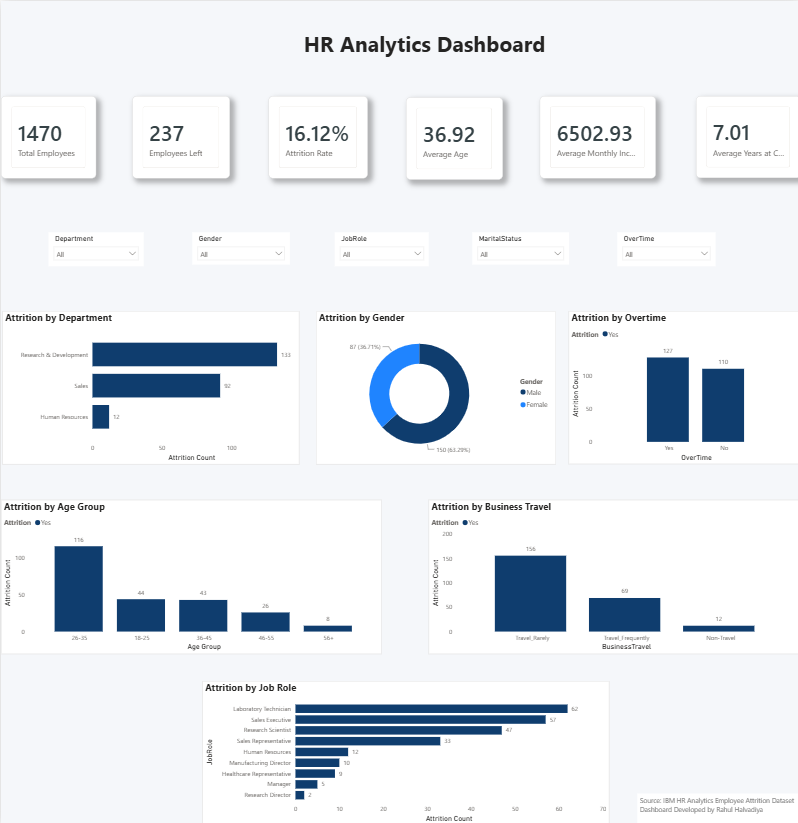

Layout of this report page (visuals, bound fields, positions):
{"tool":"powerbi","page":{"name":"HR Analytics Dashboard","canvas":[1600,1600],"ordinal":0},"visuals":[{"type":"cardVisual","fields":{"Data":["Employee Attrition.Total Employees"]},"box":[0,140,190,165],"z":0},{"type":"cardVisual","fields":{"Data":["Employee Attrition.Average Monthly Income"]},"box":[1078.3,140,231.7,165],"z":1000},{"type":"cardVisual","fields":{"Data":["Employee Attrition.Average Age"]},"box":[810,141.7,193.3,165],"z":2000},{"type":"cardVisual","fields":{"Data":["Employee Attrition.Average Years at Company"]},"box":[1389.9,140.8,209.4,164.3],"z":3000},{"type":"cardVisual","fields":{"Data":["Employee Attrition.Employees Left"]},"box":[261.7,140,195,165],"z":4000},{"type":"cardVisual","fields":{"Data":["Employee Attrition.Attrition Rate"]},"box":[535,140,198.3,165],"z":5000},{"type":"textbox","title":"HR Analytics Dashboard","box":[585.7,0,524.3,77.1],"z":6000},{"type":"clusteredBarChart","title":"Attrition by Department","fields":{"Y":["Employee Attrition.Attrition Count"],"Category":["Employee Attrition.Department"]},"box":[2,570,594,307],"z":7000},{"type":"donutChart","title":"Attrition by Gender","fields":{"Category":["Employee Attrition.Gender"],"Y":["Employee Attrition.Attrition Count"]},"box":[630,570,480,307],"z":8000},{"type":"clusteredColumnChart","title":"Attrition by Overtime","fields":{"Category":["Employee Attrition.OverTime"],"Y":["Employee Attrition.Attrition Count"],"Series":["Employee Attrition.Attrition"]},"box":[1135,570,461.7,306.7],"z":9000},{"type":"clusteredBarChart","title":"Attrition by Job Role","fields":{"Category":["Employee Attrition.JobRole"],"Y":["Employee Attrition.Attrition Count"]},"box":[402.9,1310,814.3,290],"z":10000},{"type":"clusteredColumnChart","title":"Attrition by Business Travel","fields":{"Category":["Employee Attrition.BusinessTravel"],"Y":["Employee Attrition.Attrition Count"],"Series":["Employee Attrition.Attrition"]},"box":[855.7,948.6,741.4,308.6],"z":11000},{"type":"clusteredColumnChart","title":"Attrition by Age Group","fields":{"Category":["Employee Attrition.Age Group"],"Y":["Employee Attrition.Attrition Count"],"Series":["Employee Attrition.Attrition"]},"box":[0,948.6,761.4,308.6],"z":12000},{"type":"slicer","fields":{"Values":["Employee Attrition.Department"]},"box":[95,411.7,190,68.3],"z":13001},{"type":"slicer","fields":{"Values":["Employee Attrition.Gender"]},"box":[381.7,413.3,195,65],"z":13002},{"type":"slicer","fields":{"Values":["Employee Attrition.JobRole"]},"box":[666.7,411.7,188.3,68.3],"z":13003},{"type":"slicer","fields":{"Values":["Employee Attrition.MaritalStatus"]},"box":[941.7,413.3,193.3,65],"z":13004},{"type":"slicer","fields":{"Values":["Employee Attrition.OverTime"]},"box":[1233.3,411.7,196.7,68.3],"z":13005},{"type":"textbox","box":[1273.3,1535,326.7,65],"z":13006}]}

Visuals, with their boxes on the page's 1600x1600 design canvas (x1, y1, x2, y2). These are canvas units, not pixel positions in the 798x823 screenshot, which may show the page scaled, cropped or inside an application window:
cardVisual - Employee Attrition.Total Employees: locate(0, 140, 190, 305)
cardVisual - Employee Attrition.Average Monthly Income: locate(1078, 140, 1310, 305)
cardVisual - Employee Attrition.Average Age: locate(810, 142, 1003, 307)
cardVisual - Employee Attrition.Average Years at Company: locate(1390, 141, 1599, 305)
cardVisual - Employee Attrition.Employees Left: locate(262, 140, 457, 305)
cardVisual - Employee Attrition.Attrition Rate: locate(535, 140, 733, 305)
"HR Analytics Dashboard" textbox: locate(586, 0, 1110, 77)
"Attrition by Department" clusteredBarChart: locate(2, 570, 596, 877)
"Attrition by Gender" donutChart: locate(630, 570, 1110, 877)
"Attrition by Overtime" clusteredColumnChart: locate(1135, 570, 1597, 877)
"Attrition by Job Role" clusteredBarChart: locate(403, 1310, 1217, 1600)
"Attrition by Business Travel" clusteredColumnChart: locate(856, 949, 1597, 1257)
"Attrition by Age Group" clusteredColumnChart: locate(0, 949, 761, 1257)
slicer - Employee Attrition.Department: locate(95, 412, 285, 480)
slicer - Employee Attrition.Gender: locate(382, 413, 577, 478)
slicer - Employee Attrition.JobRole: locate(667, 412, 855, 480)
slicer - Employee Attrition.MaritalStatus: locate(942, 413, 1135, 478)
slicer - Employee Attrition.OverTime: locate(1233, 412, 1430, 480)
textbox: locate(1273, 1535, 1600, 1600)
